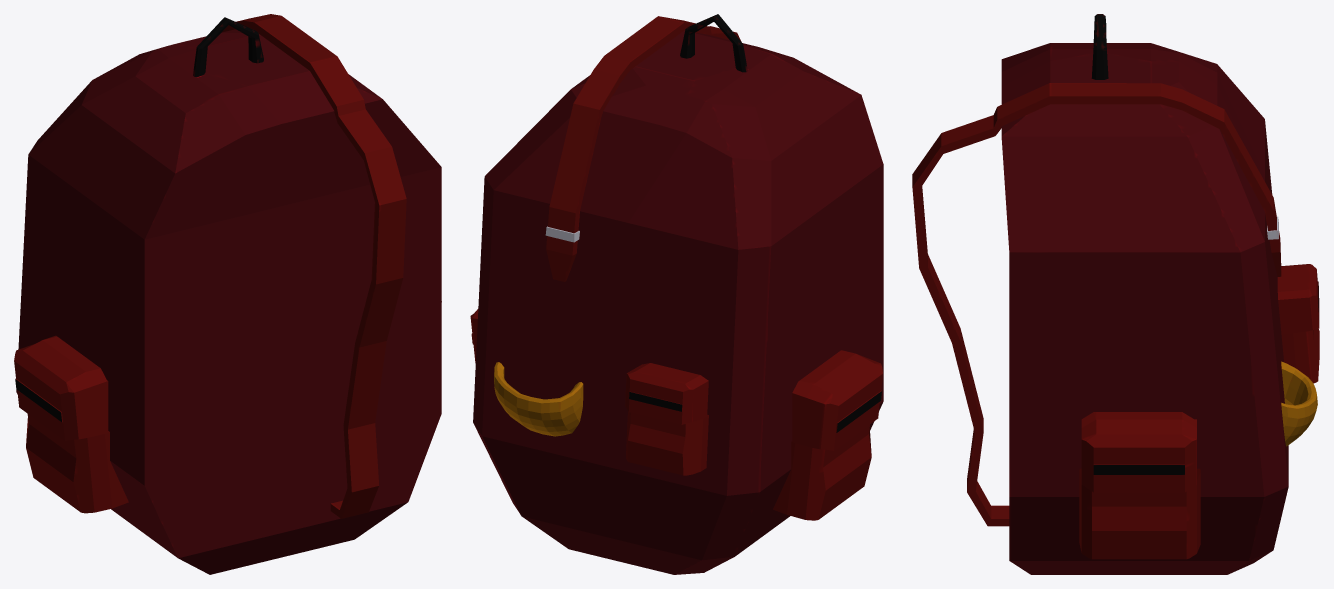
The model's file is Backpack.fbx.
3 views of the same model, side by side, from view 1: azimuth 30°, elevation 25°; view 2: azimuth 150°, elevation 25°; view 3: azimuth 270°, elevation 25° (orthographic). The views are drawn at different scales.
Visible parts, largest first — view 1: Cube; view 2: Cube; view 3: Cube.
Part boxes in pixels (x1,y1,x2,y2): Cube: [14, 14, 441, 574]; Cube: [470, 14, 883, 574]; Cube: [912, 14, 1319, 574].
Bounding box in the file's own units: 331 × 430 × 308.
1 material, 1 textured.
